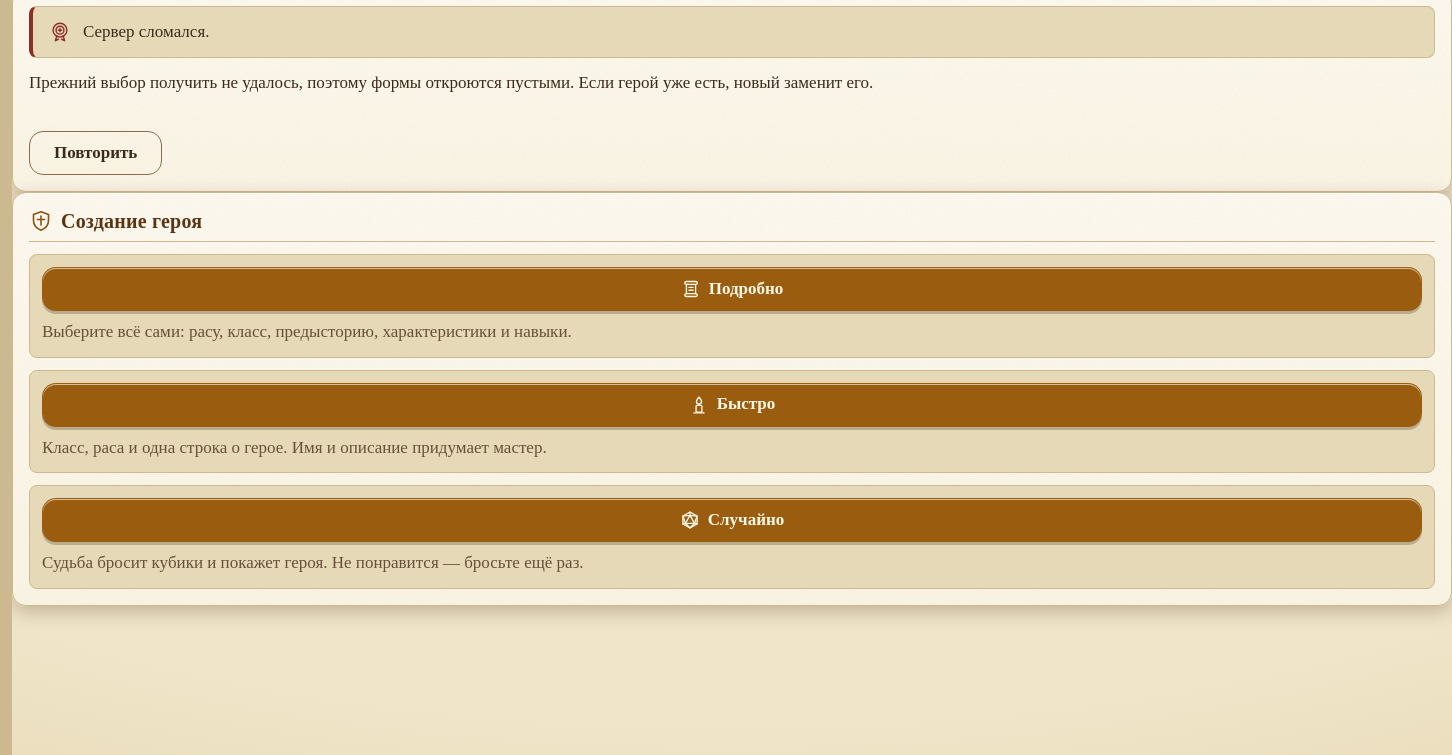
Test: свой герой: запрос и состояния › после сбоя героя быстрый способ открывается пустым
This screenshot has width=1452, height=755.
expect the message "Сервер сломался." is shown: met, box [29,6,1435,58]
Click the button "Быстро" at [732, 404], box [42,382,1422,426]
(page scrolled)
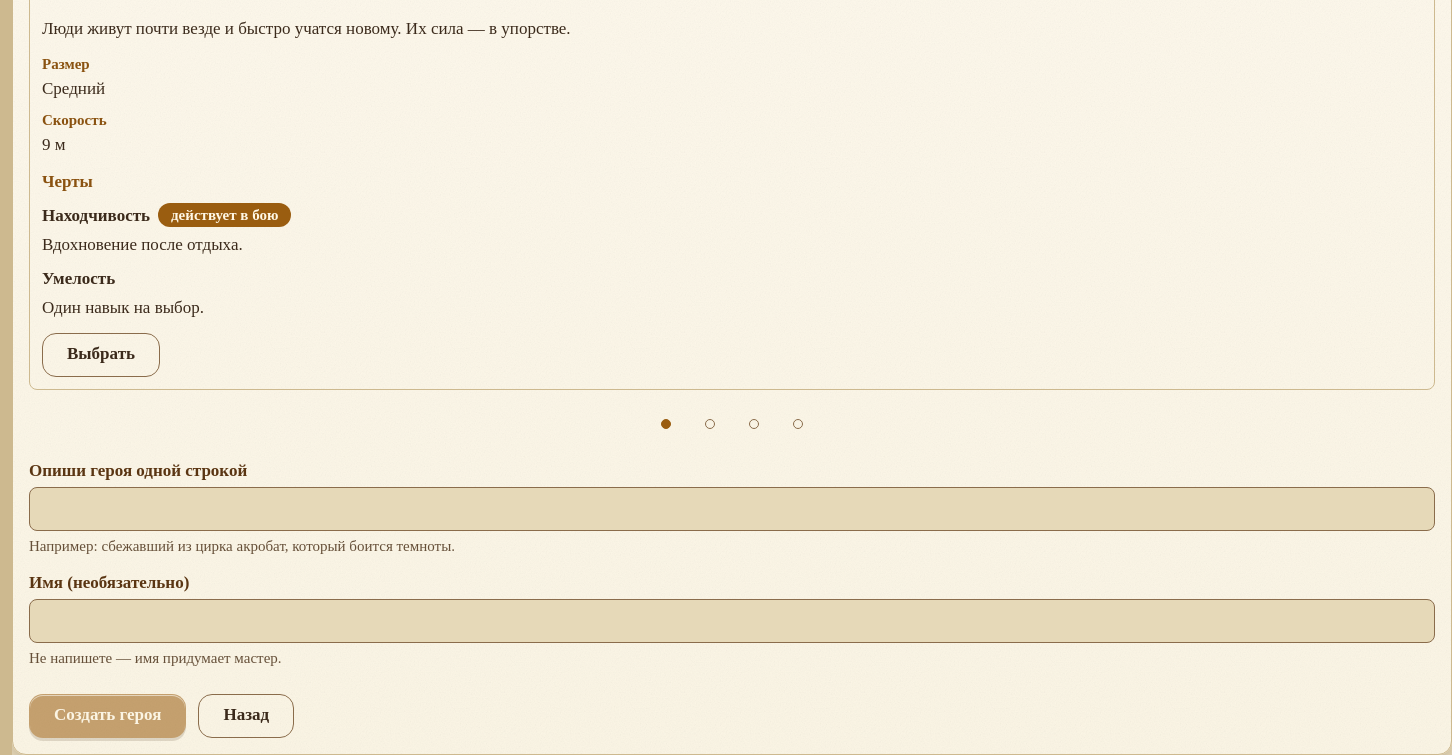
expect the field labelled "Опиши героя одной строкой" is empty: met, box [29,487,1435,531]
expect the text "Сервер сломался." is gone: met
